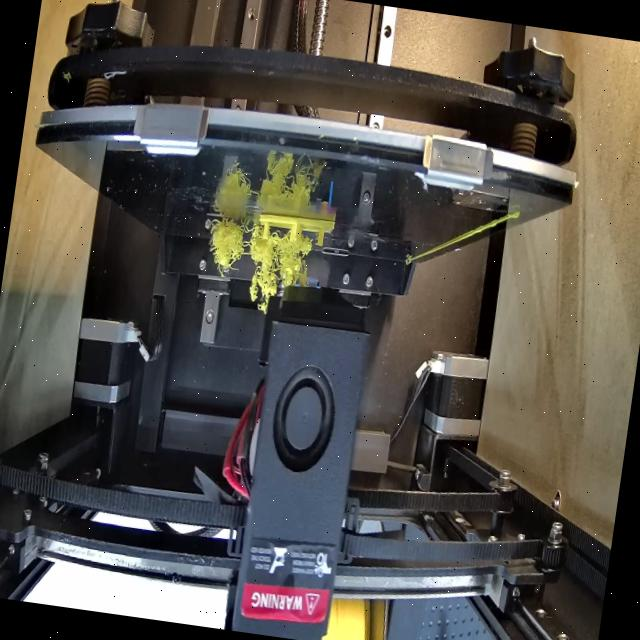spaghetti: (199, 218, 315, 314)
